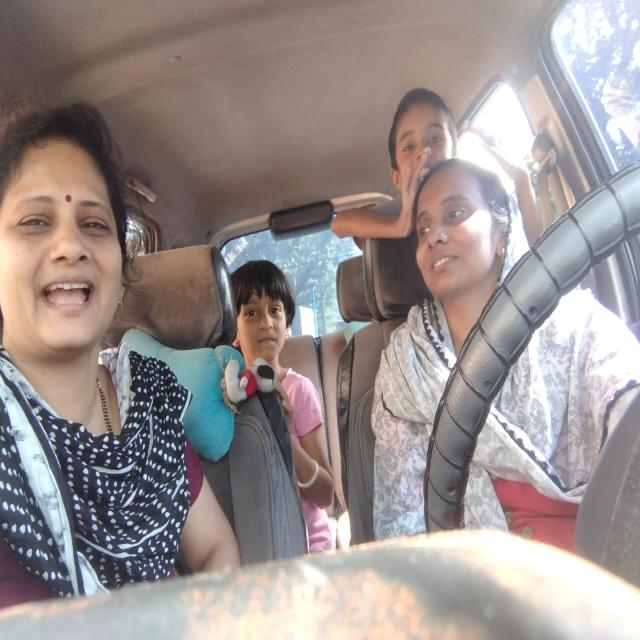LeftRight: (412, 178, 503, 294)
person: (10, 106, 133, 350), (230, 267, 298, 364), (389, 100, 457, 168)
talking: (36, 275, 102, 318), (431, 258, 462, 274)
